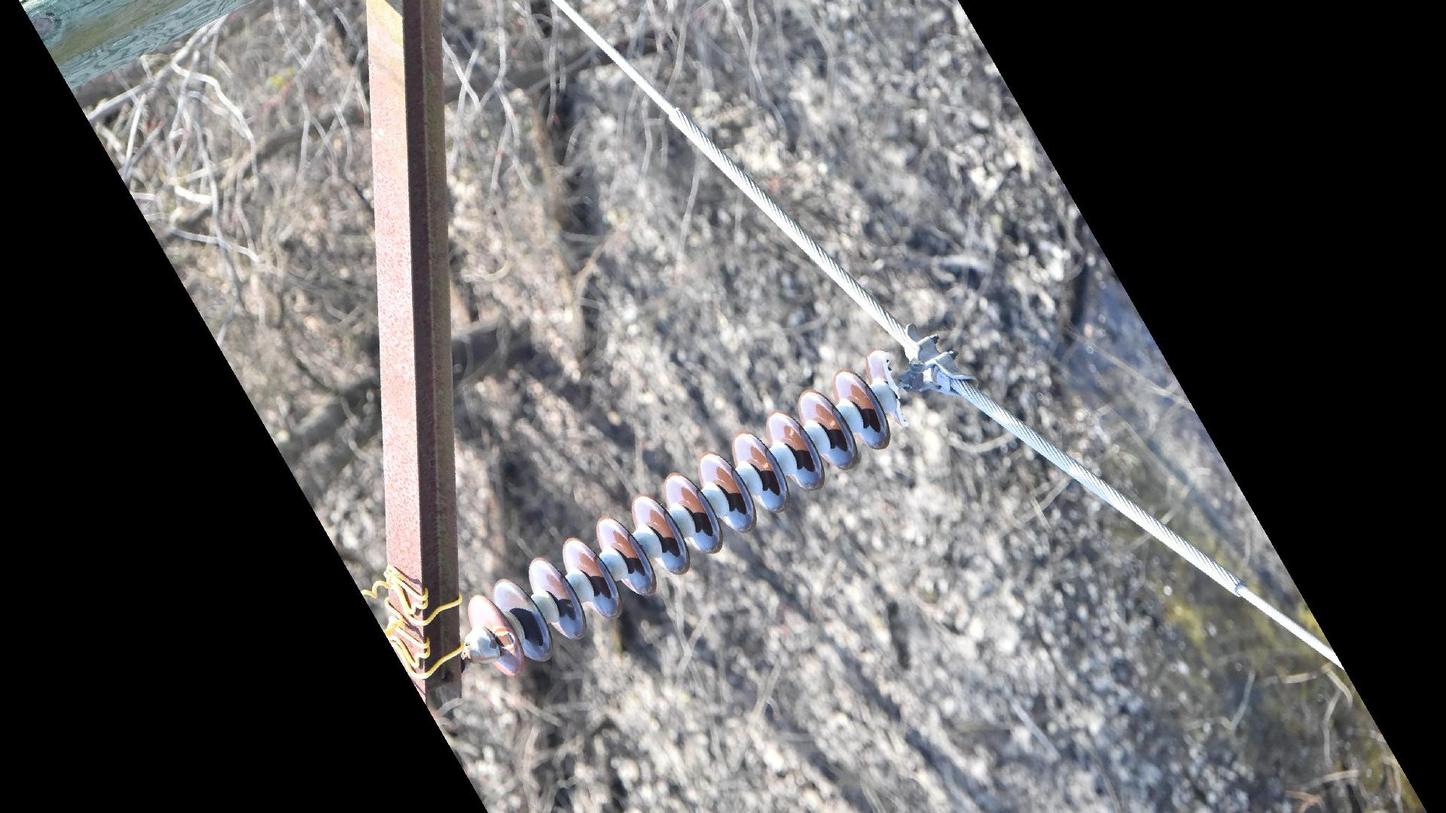insulator: (459, 348, 919, 685)
insulator_breakage: (874, 351, 914, 434)
insulator_flashover: (494, 630, 517, 652)
